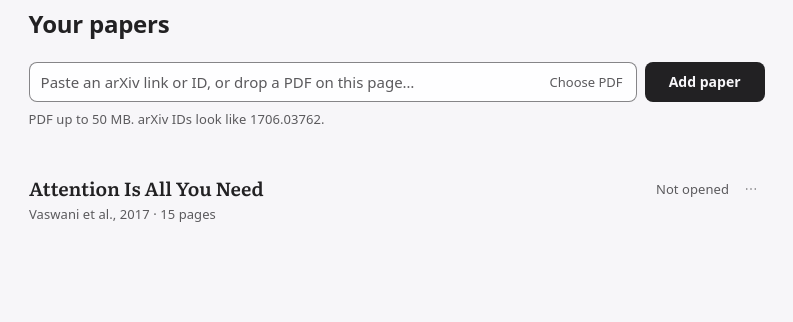
Library › adds a paper by link: posts the normalised id, clears the field and shows the new row at once
The image size is (793, 322).
Expected: the link "Attention Is All You Need" is shown, x1=17 y1=164 x2=777 y2=235
Type "https://arxiv.org/abs/2006.11239v2" into the field labelled "arXiv link or ID" at [285, 82], box x1=29 y1=62 x2=542 y2=102
Then press Enter
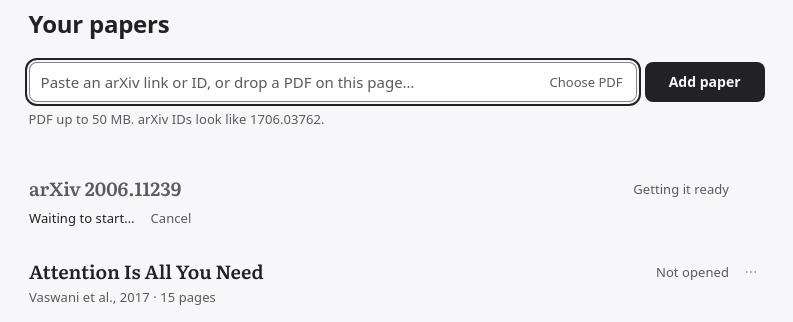
Now the list item "Waiting to start…" is shown, box x1=29 y1=209 x2=134 y2=227
